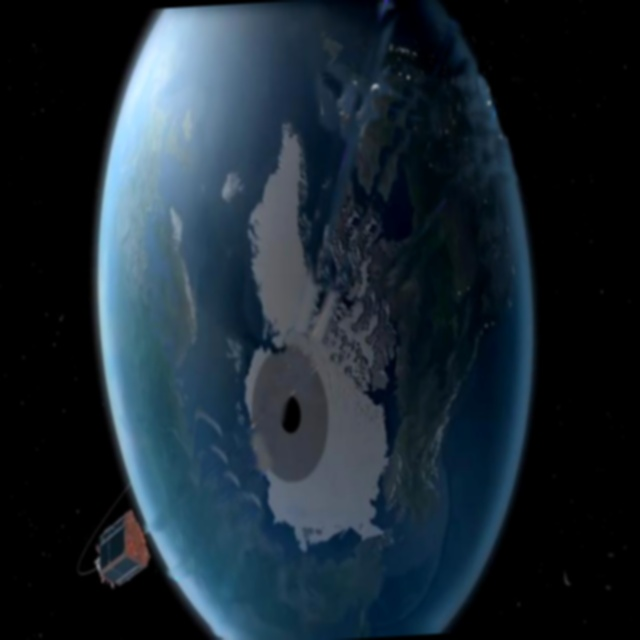large_debris: (233, 340, 351, 496)
medium_debris: (84, 496, 166, 594)
